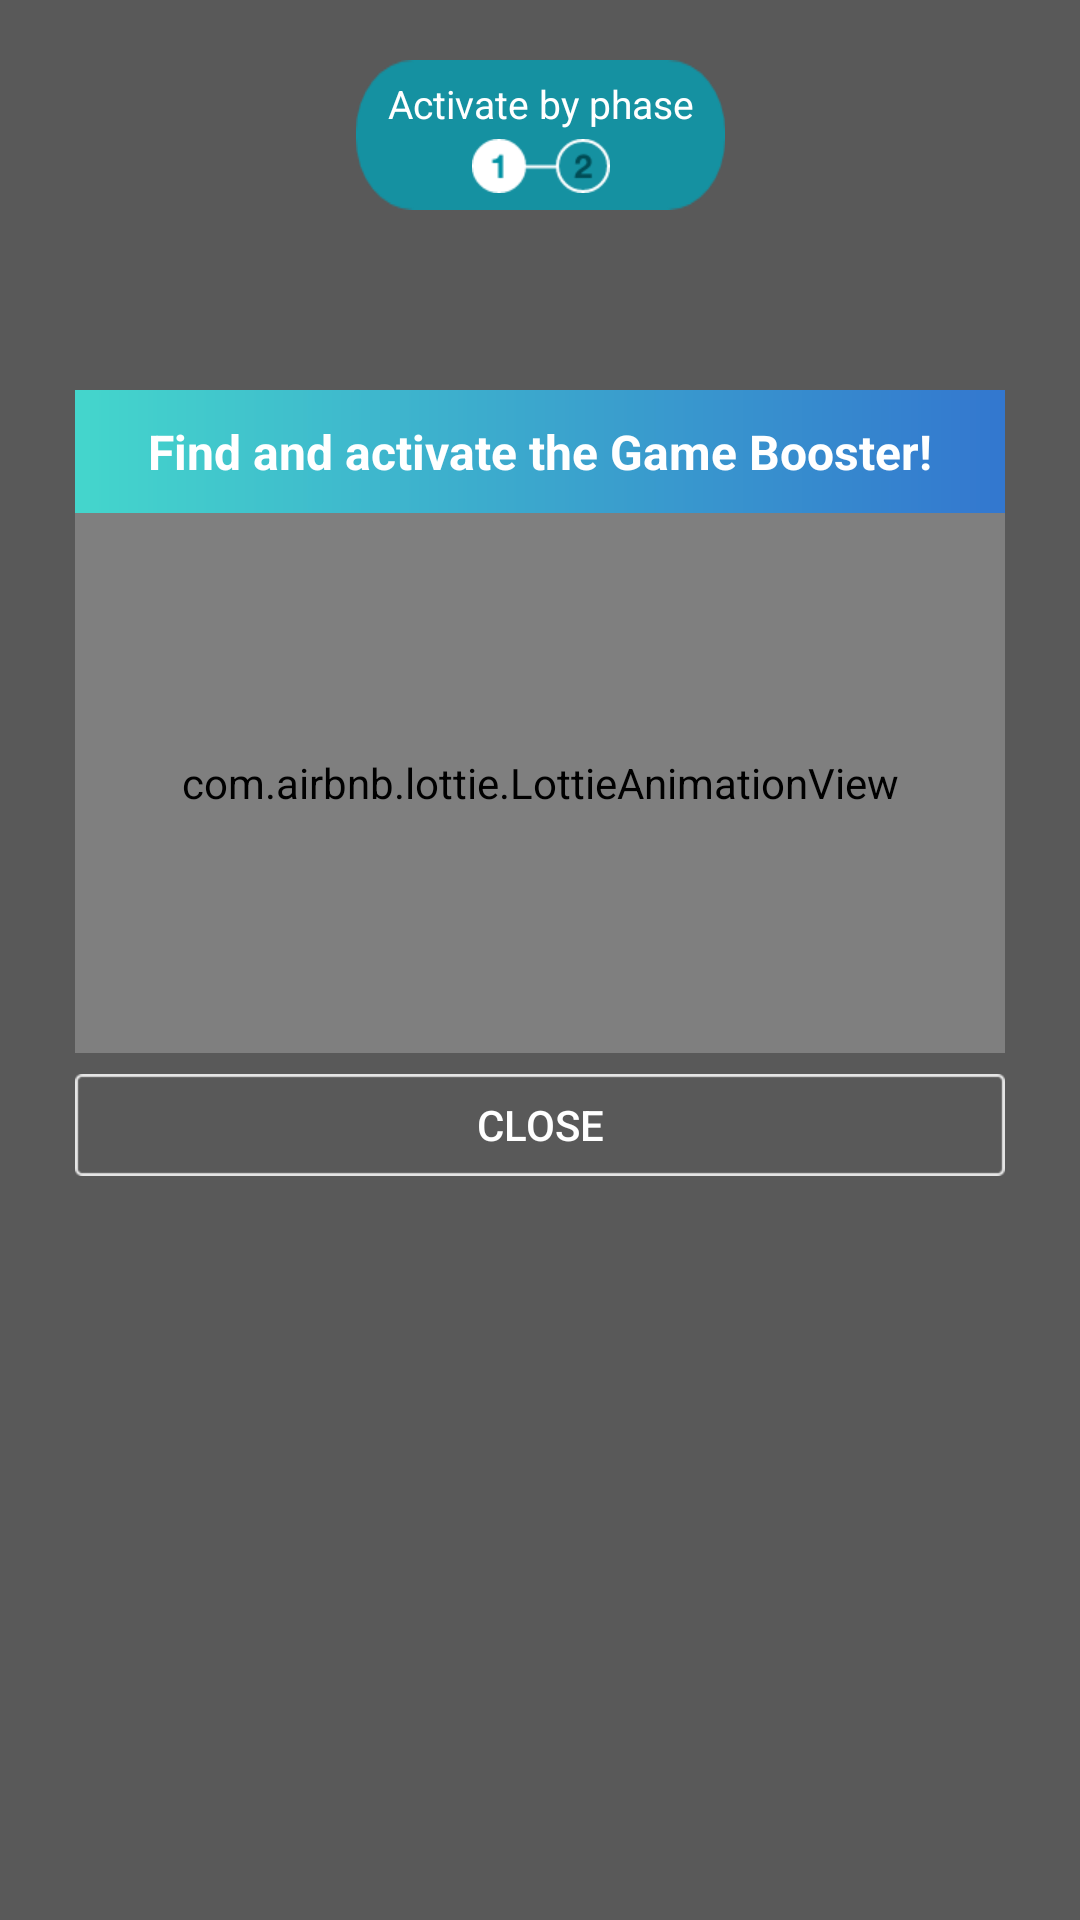

Where icons sit on this 1080×1920 app screen, as [x1,y1,x2,y2]:
tutorial number: [472,139,610,193]
